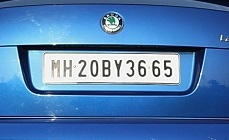number_plate: (23, 35, 187, 103)
